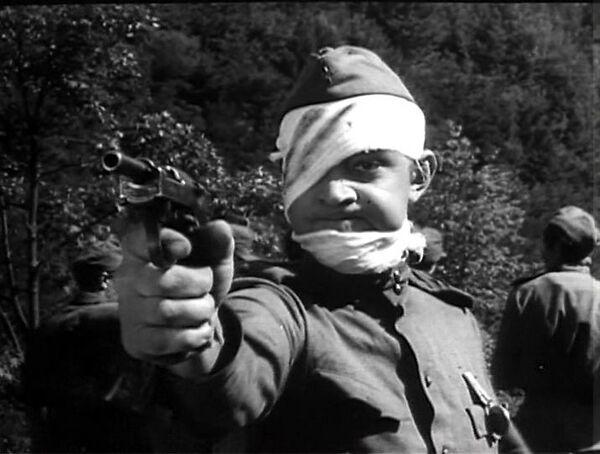Gun: (100, 148, 217, 271)
